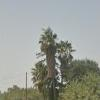Palm tree: (33, 15, 77, 90)
